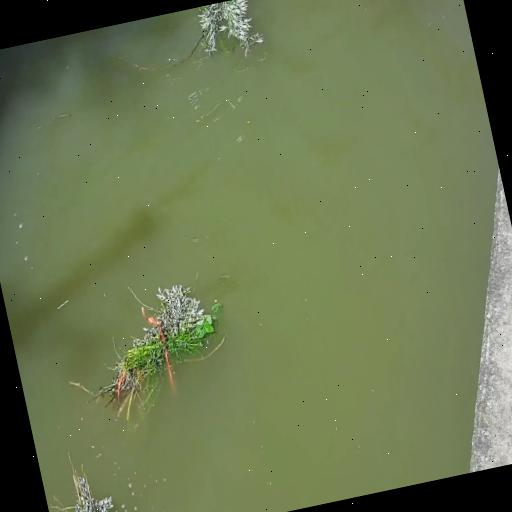twig: (61, 270, 241, 430), (116, 0, 276, 153), (38, 442, 126, 512)
